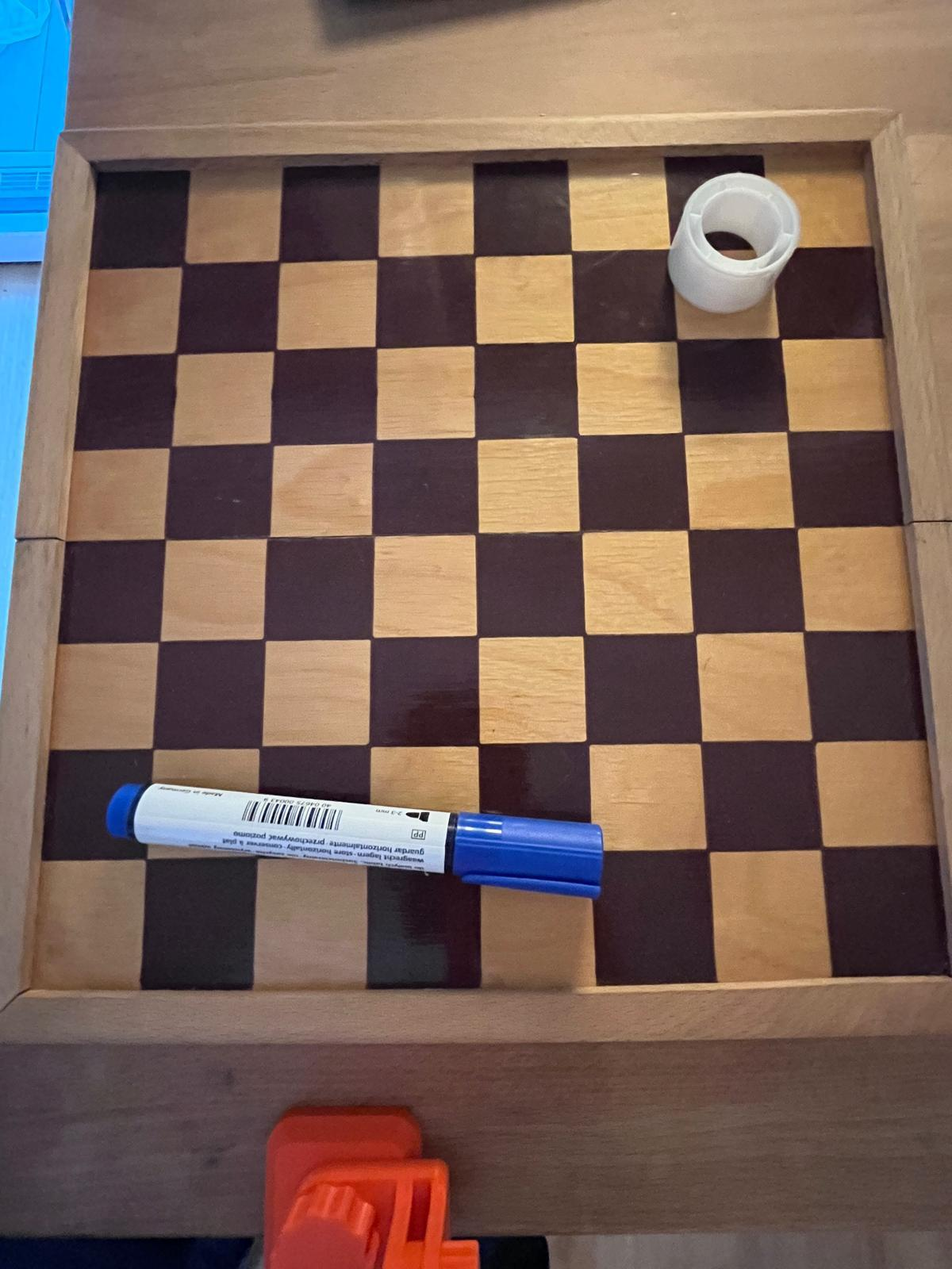marker: (103, 777, 601, 904)
tape: (660, 168, 803, 312)
